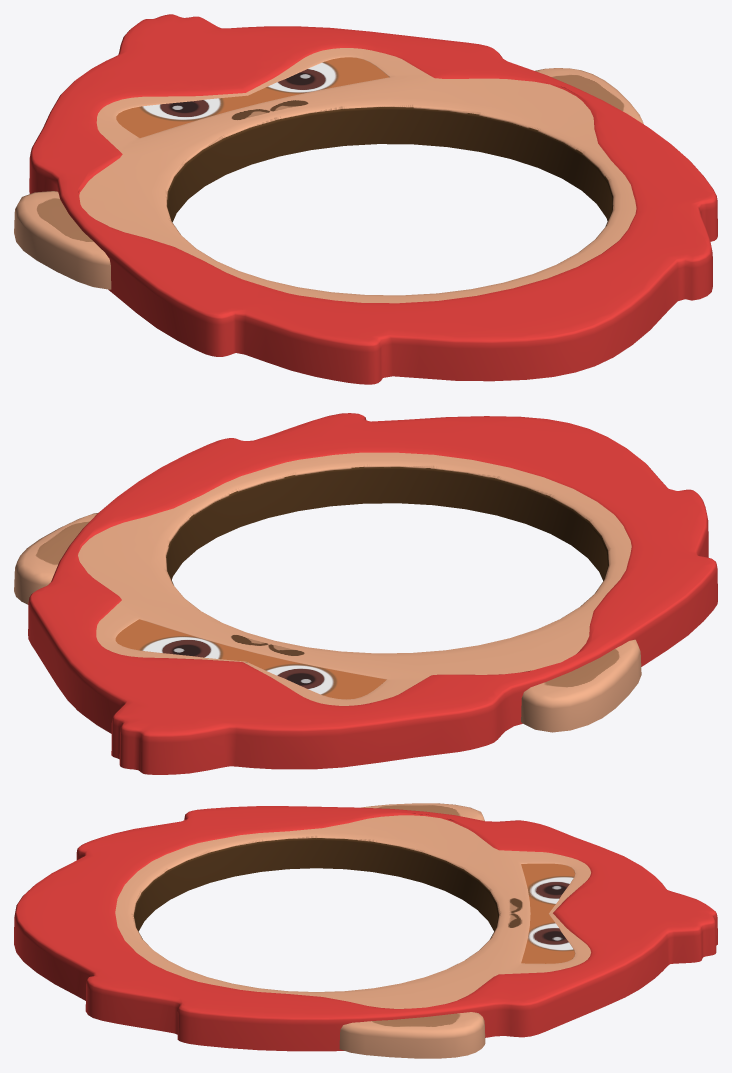
File: Kong.fbx
3 views of the same model, one above another, from view 1: azimuth 30°, elevation 25°; view 2: azimuth 150°, elevation 25°; view 3: azimuth 270°, elevation 25° (orthographic). The views are drawn at different scales.
Parts seen in each view (by area): view 1: hole, eye; view 2: hole, eye; view 3: hole, eye.
Boxes of the visible parts, <box> form: hole: <box>14,14,717,384</box>; eye: <box>116,57,388,137</box>; hole: <box>14,413,717,774</box>; eye: <box>115,619,386,699</box>; hole: <box>14,803,717,1058</box>; eye: <box>521,863,574,963</box>.
Bounding box in the file's own units: 3.01 × 0.2031 × 3.85.
